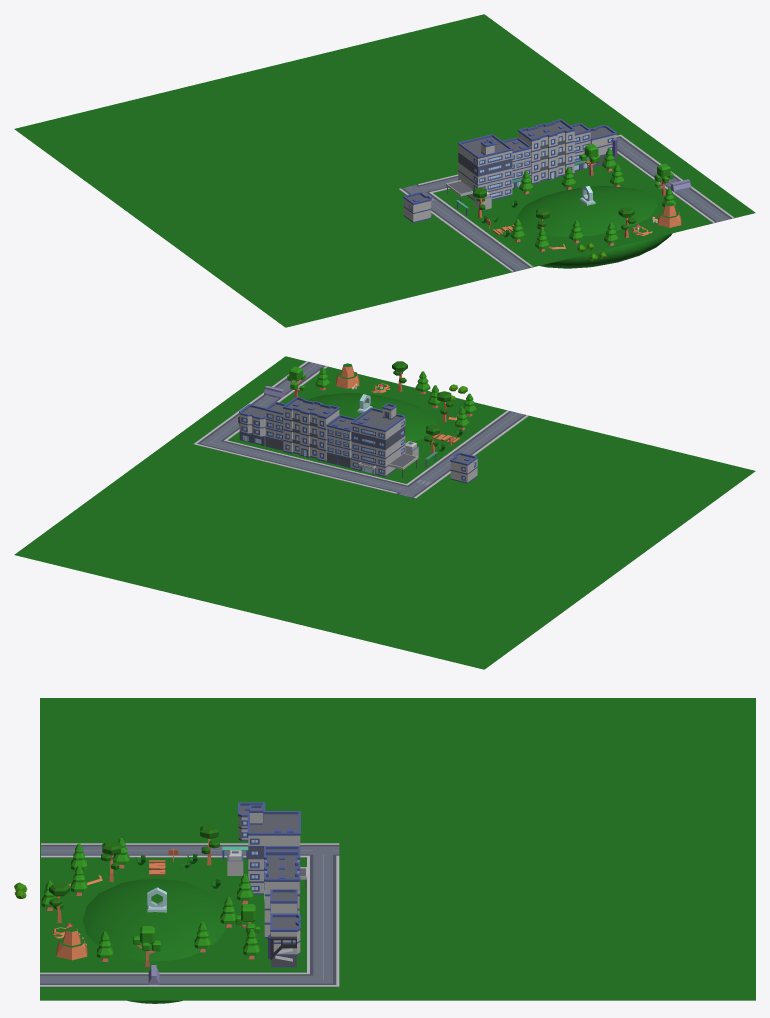
The model's file is map.glb.
The picture shows the model from 3 angles, top to bottom: view 1: azimuth 30°, elevation 25°; view 2: azimuth 150°, elevation 25°; view 3: azimuth 270°, elevation 25°; orthographic projection. The views are drawn at different scales.
Visible parts, largest first — view 1: mergedBlocks(Clone); view 2: mergedBlocks(Clone); view 3: mergedBlocks(Clone).
Part boxes in pixels (x1=…): mergedBlocks(Clone): x1=14, y1=14, x2=755, y2=327; mergedBlocks(Clone): x1=14, y1=356, x2=755, y2=669; mergedBlocks(Clone): x1=14, y1=698, x2=755, y2=1003.
Size of the model in its own units: 22 by 4.28 by 22.8.
